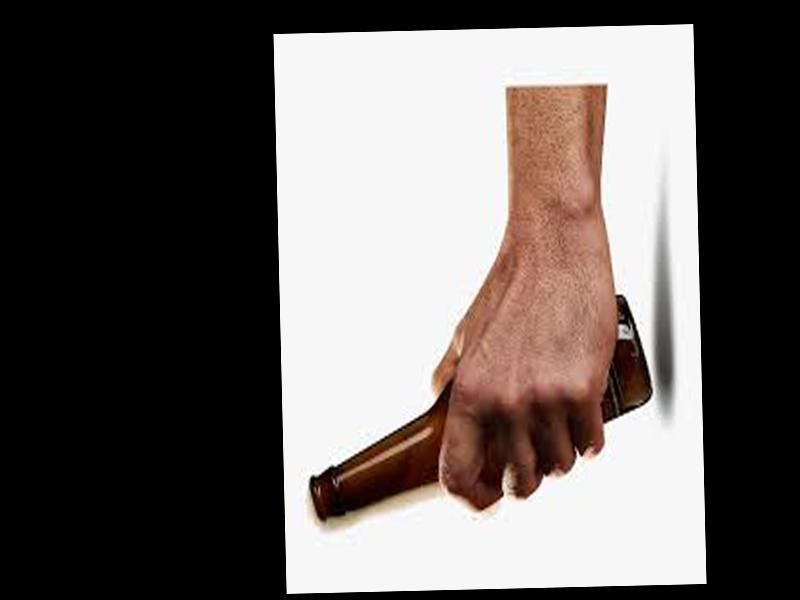Beer: (306, 294, 659, 522)
